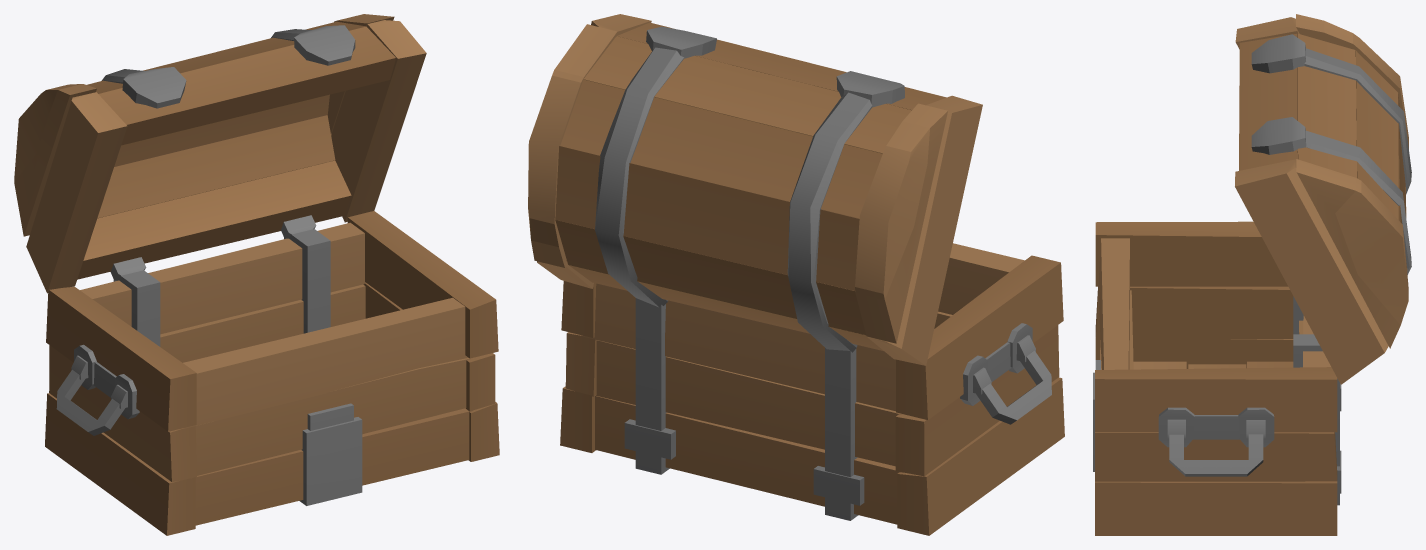
The model's file is Box_Wood_Open_B.fbx.
3 renders of one model, left to right at view 1: azimuth 30°, elevation 25°; view 2: azimuth 150°, elevation 25°; view 3: azimuth 270°, elevation 25°, orthographic. The views are drawn at different scales.
Visible parts, largest first — view 1: Box_Wood_Open_B; view 2: Box_Wood_Open_B; view 3: Box_Wood_Open_B.
Part boxes in pixels (x1,y1,x2,y2): Box_Wood_Open_B: [14, 14, 499, 535]; Box_Wood_Open_B: [528, 14, 1064, 535]; Box_Wood_Open_B: [1093, 14, 1411, 535].
Size of the model in its own units: 109 by 97.26 by 75.81.
